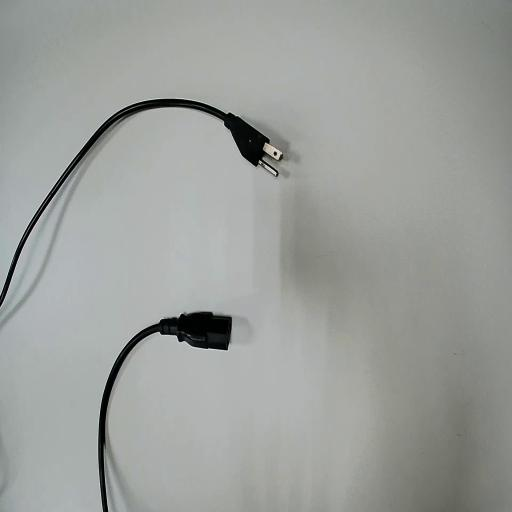wire: (0, 100, 268, 303), (99, 312, 230, 511)
